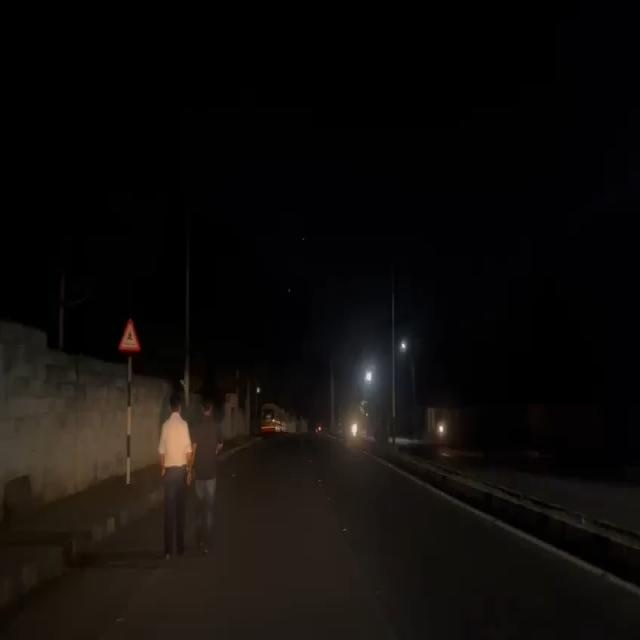bien_nguy_hiem: (117, 313, 140, 353)
